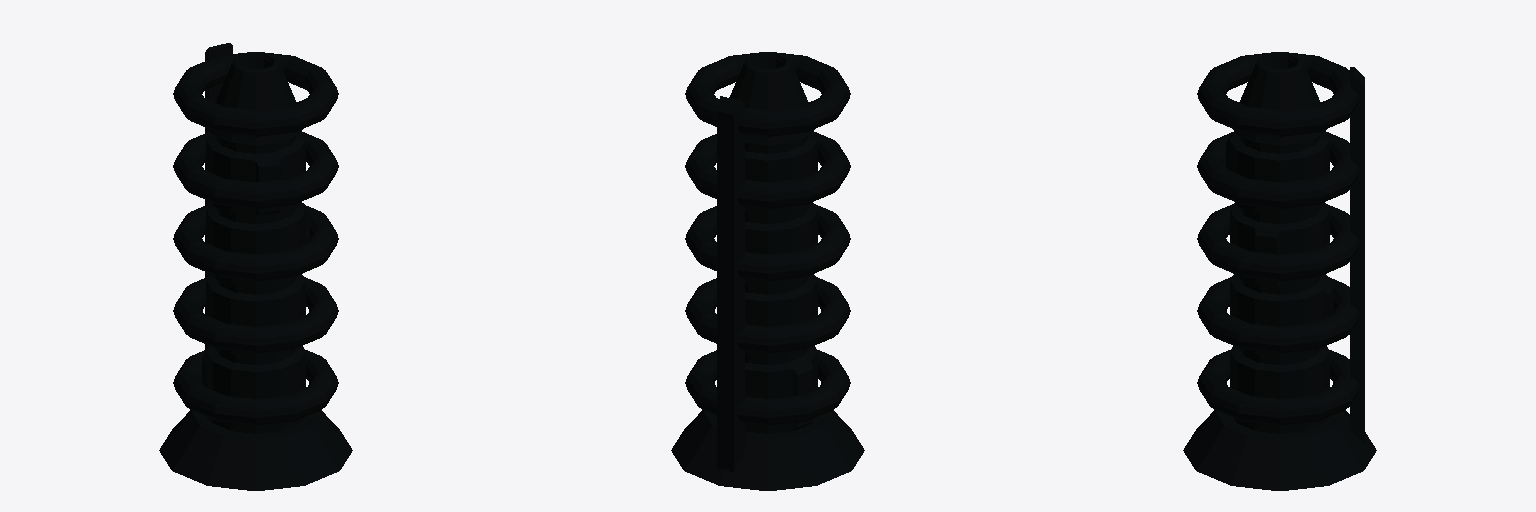
The model's file is Generator_Pile_Small.obj.
3 renders of one model, left to right at view 1: azimuth 30°, elevation 25°; view 2: azimuth 150°, elevation 25°; view 3: azimuth 270°, elevation 25°, orthographic.
Parts seen in each view (by area): view 1: Generator_Pile_Small; view 2: Generator_Pile_Small; view 3: Generator_Pile_Small.
Part boxes in pixels (left/top/right/bottom): Generator_Pile_Small: left=159, top=43, right=352, bottom=490; Generator_Pile_Small: left=671, top=52, right=864, bottom=490; Generator_Pile_Small: left=1183, top=52, right=1376, bottom=490.
Bounding box in the file's own units: 1.53 × 3.39 × 1.53.